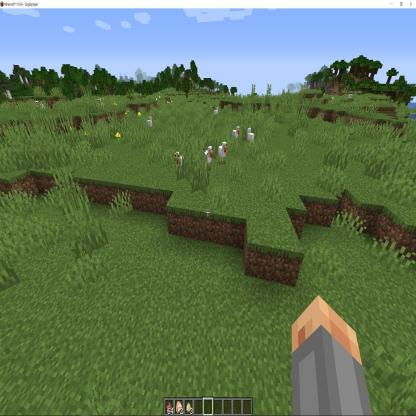minecraft-pigs: (172, 151, 186, 174), (203, 146, 214, 171), (218, 140, 228, 167), (246, 126, 256, 148), (231, 126, 241, 146), (34, 100, 46, 113), (146, 116, 153, 131), (96, 99, 105, 110), (214, 105, 219, 119)
